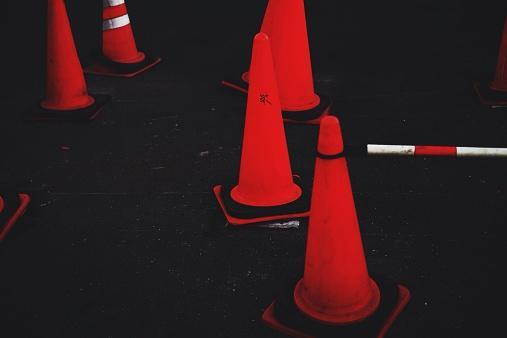Cone: (264, 115, 414, 338), (215, 32, 322, 223), (21, 1, 112, 124), (75, 1, 162, 79)
